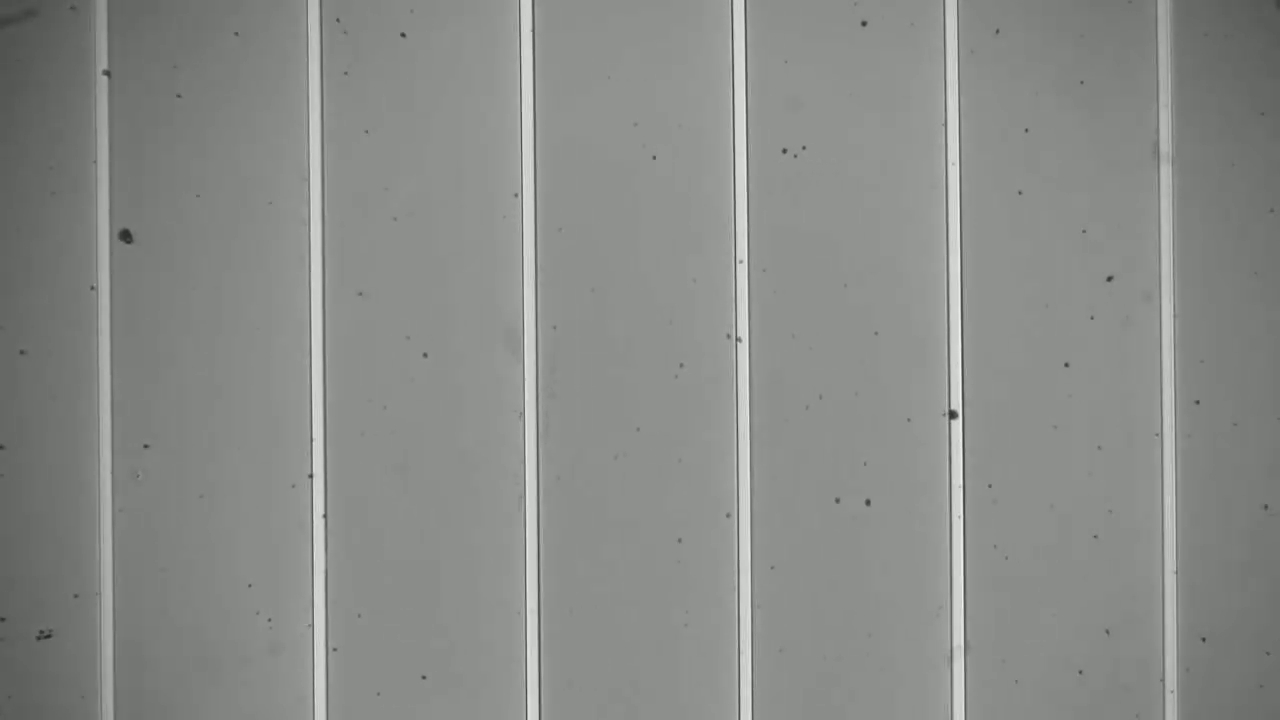stains_enbedded: (941, 403, 969, 426)
